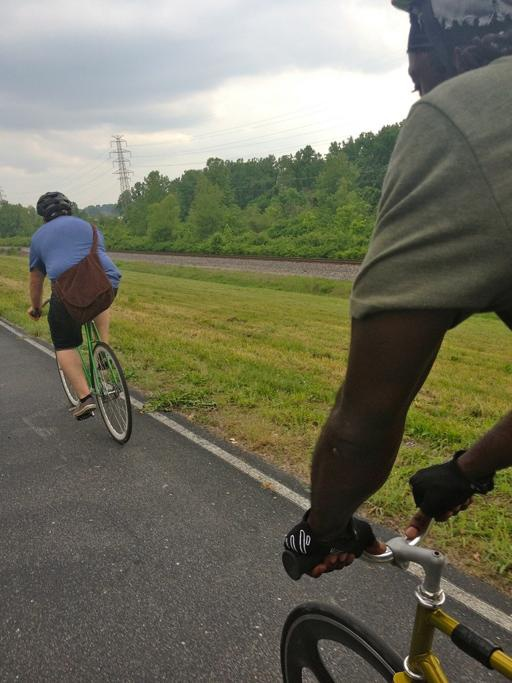non-vehicle: (280, 484, 511, 682), (32, 295, 132, 444)
